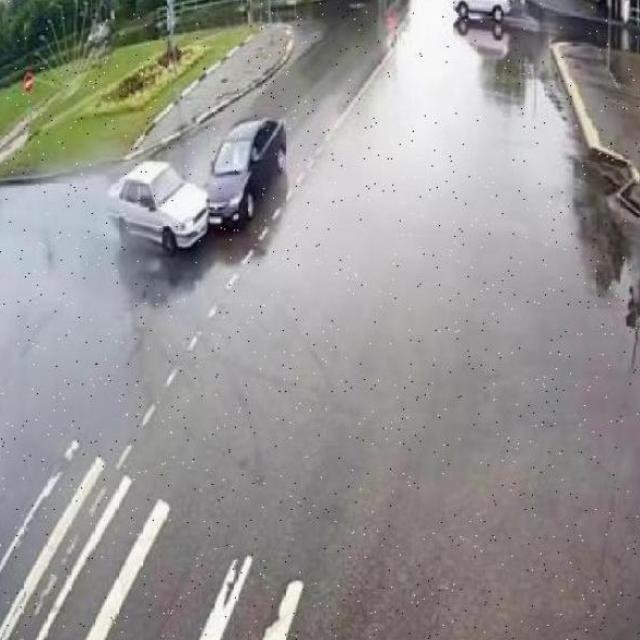accident: (107, 113, 286, 256)
